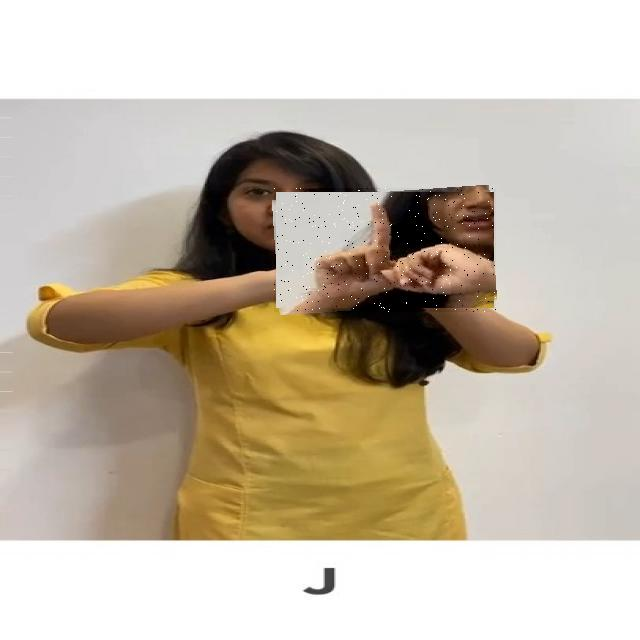J: (274, 188, 496, 312)
